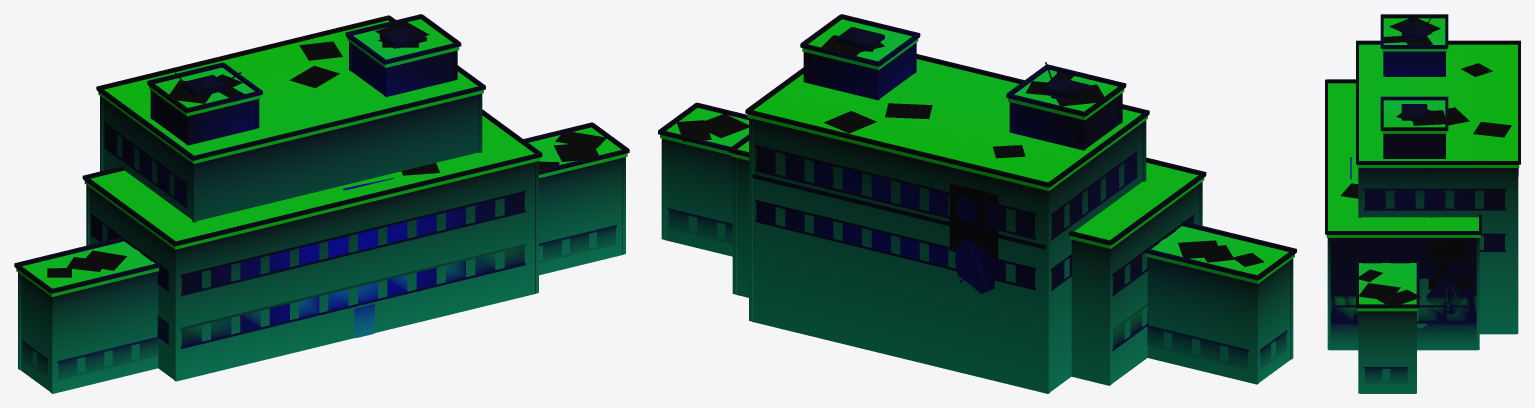
The model's file is s_admin_core_damaged.glb.
The picture shows the model from 3 angles, left to right: view 1: azimuth 30°, elevation 25°; view 2: azimuth 150°, elevation 25°; view 3: azimuth 270°, elevation 25°; orthographic projection. The views are drawn at different scales.
Parts seen in each view (by area): view 1: lod0; view 2: lod0; view 3: lod0.
Part boxes in pixels (left/top/right/bottom): lod0: left=14, top=14, right=629, bottom=393; lod0: left=658, top=14, right=1296, bottom=393; lod0: left=1325, top=14, right=1520, bottom=393.
Size of what is drawn, in the model's own units: 57.2 by 23.87 by 19.7.
